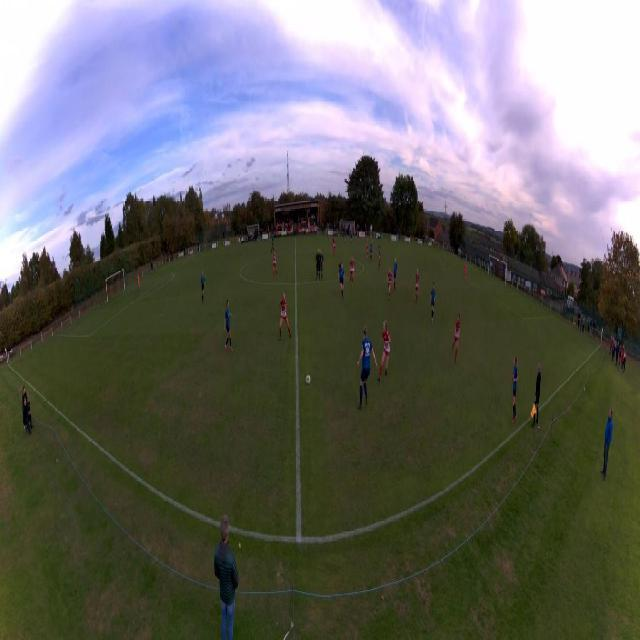ball: (305, 375, 311, 386)
player: (357, 323, 378, 410), (377, 320, 392, 382), (278, 291, 292, 338), (511, 355, 519, 424), (224, 299, 233, 353), (452, 314, 461, 363), (338, 261, 348, 299), (430, 281, 436, 325), (387, 267, 394, 301), (315, 248, 321, 282), (415, 267, 420, 305), (350, 256, 355, 288), (393, 258, 398, 290), (320, 249, 325, 281), (201, 270, 205, 304), (272, 251, 277, 277), (271, 233, 275, 254), (332, 237, 336, 256), (463, 262, 467, 281), (370, 241, 374, 260), (378, 245, 381, 269), (137, 273, 140, 291), (366, 238, 368, 256), (351, 230, 353, 244)
